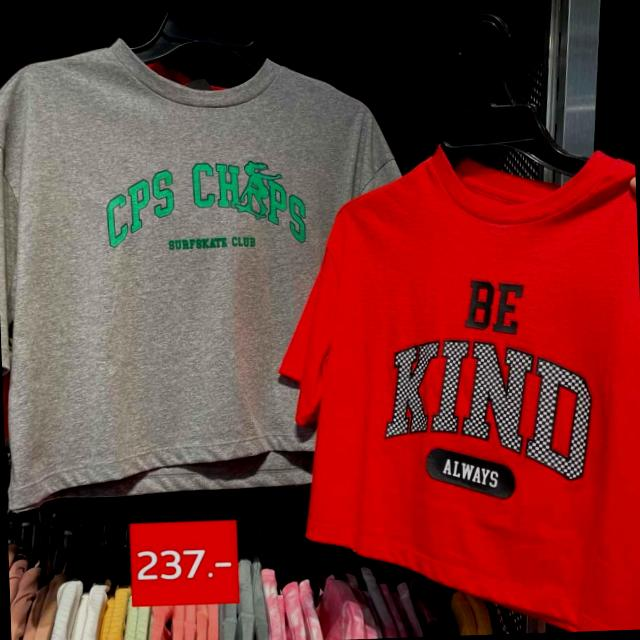Tshirt: (0, 27, 429, 513), (281, 133, 640, 640)
